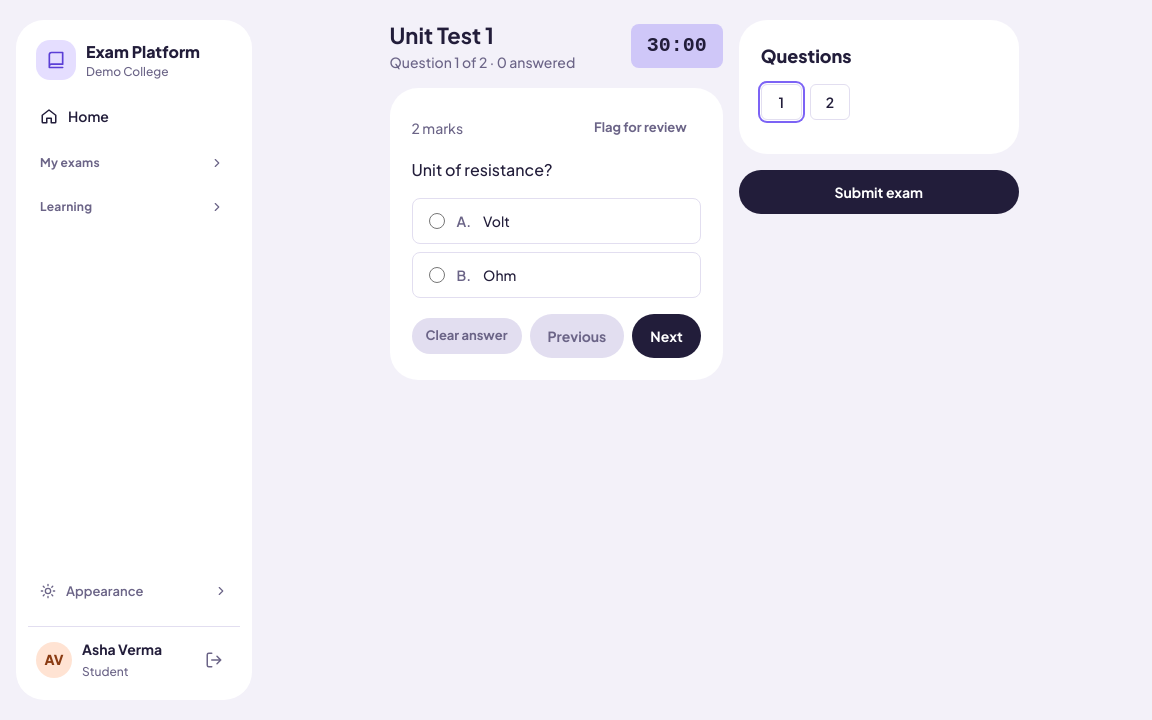
Test case: student exam screen › saves each answer at once, shows the countdown, and submits after confirmation
This screenshot has width=1152, height=720.
expect the text "Unit of resistance?" is shown: met, box [412,159,552,180]
expect the text "30:00" is shown: met, box [631,24,723,68]
What coordinates should you click on to do the following:
click the radio button labelled "B. Ohm"
I would click on:
 (436, 275)
Its box is [428,267,444,283].
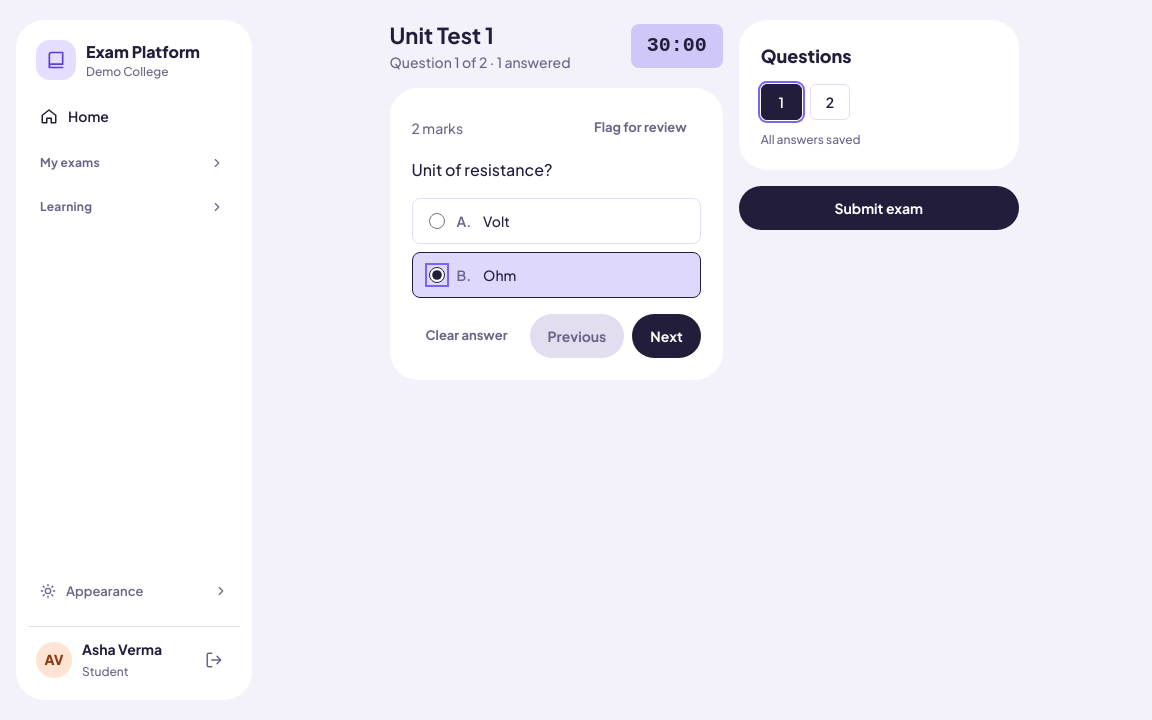
expect the text "All answers saved" is shown: met, box [761,132,861,147]
What coordinates should you click on to do the following:
click the button "Submit exam"
I would click on:
 (879, 208)
Its box is [739,186,1019,230].
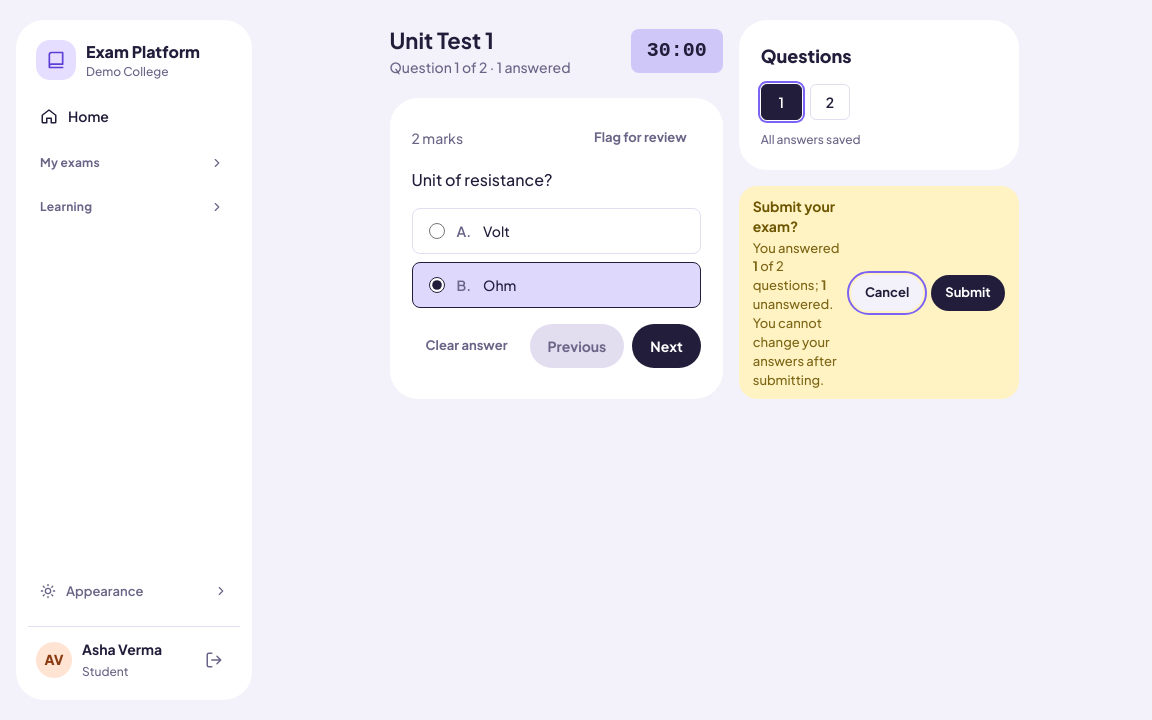
expect the element "Submit your exam?" shows "You answered 1 of 2 questions; 1 unanswered": met, box [739,186,1019,399]
What coordinates should you click on to do the following:
click the button "Submit"
I would click on:
 (968, 293)
Its box is [931,275,1005,311].
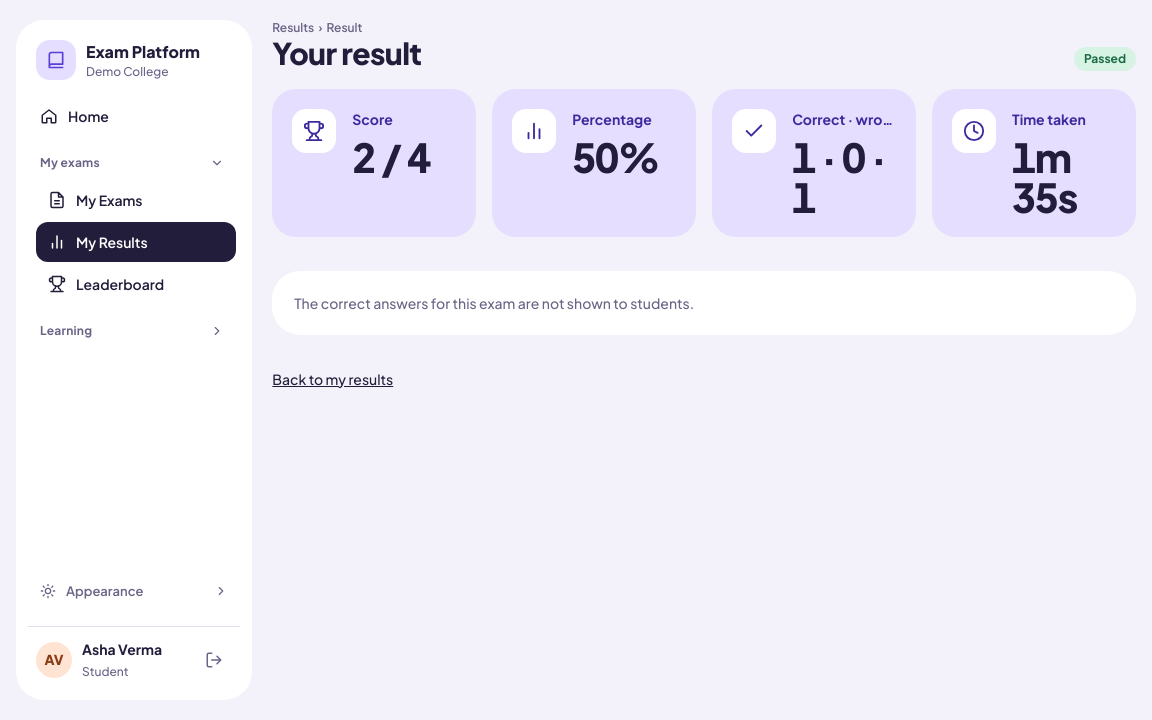
expect the heading "Your result" is shown: met, box [272,36,421,70]
expect the text "2 / 4" is shown: met, box [352,137,430,177]
